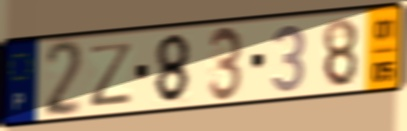2: (43, 35, 85, 125)
3: (207, 22, 245, 105), (269, 21, 309, 95)
8: (152, 31, 194, 106), (321, 16, 360, 89)
Z: (86, 39, 136, 109)
